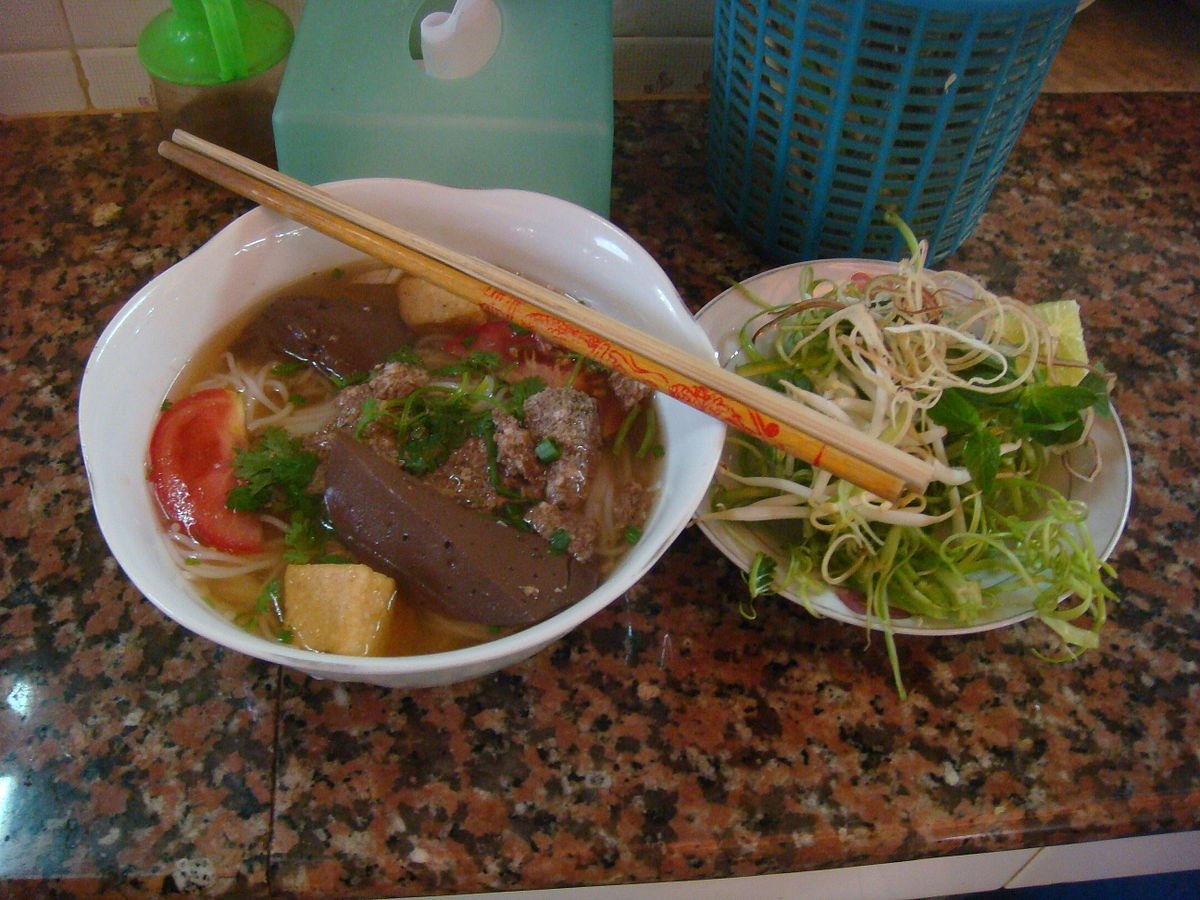rieu: (516, 387, 597, 502)
tofu: (273, 556, 405, 657)
tomato: (141, 383, 265, 557)
